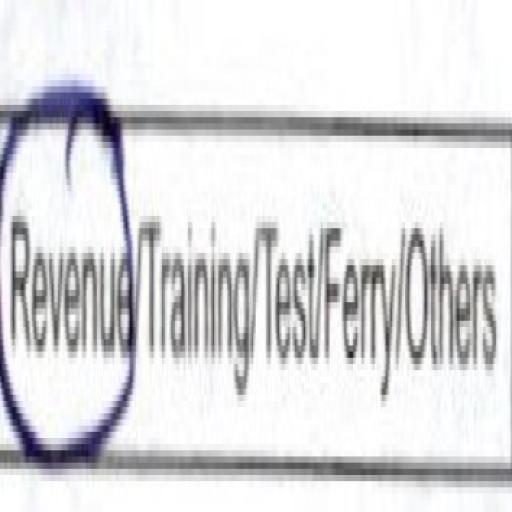check: (0, 49, 139, 463)
